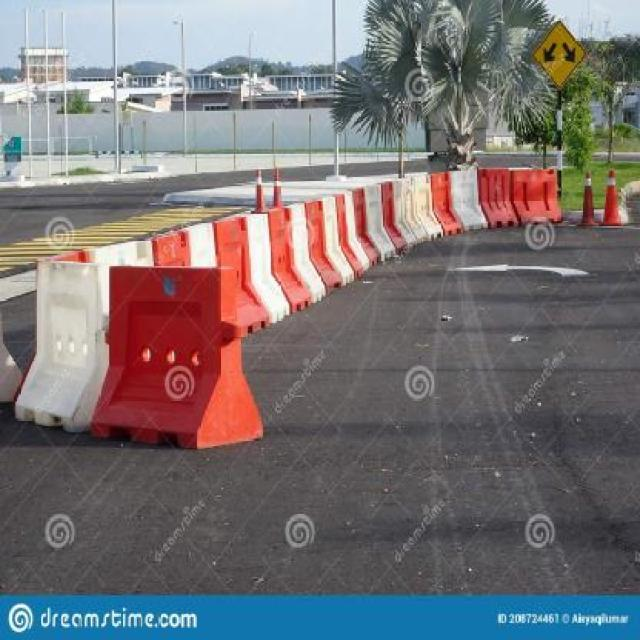fallen_object: (16, 253, 267, 454), (117, 213, 317, 330), (453, 150, 565, 235), (293, 190, 398, 280), (373, 162, 481, 237), (567, 162, 630, 236), (232, 156, 294, 210)
